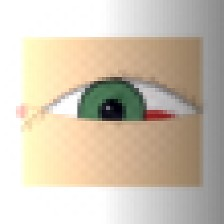hemorrhage_spot: (112, 91, 187, 151)
